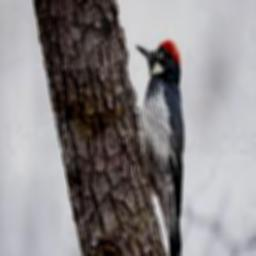Woodpecker: (135, 39, 184, 256)
